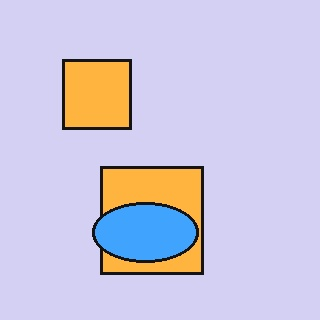circle_target: (92, 203, 198, 262)
square_target: (100, 166, 204, 275), (63, 59, 132, 129)
